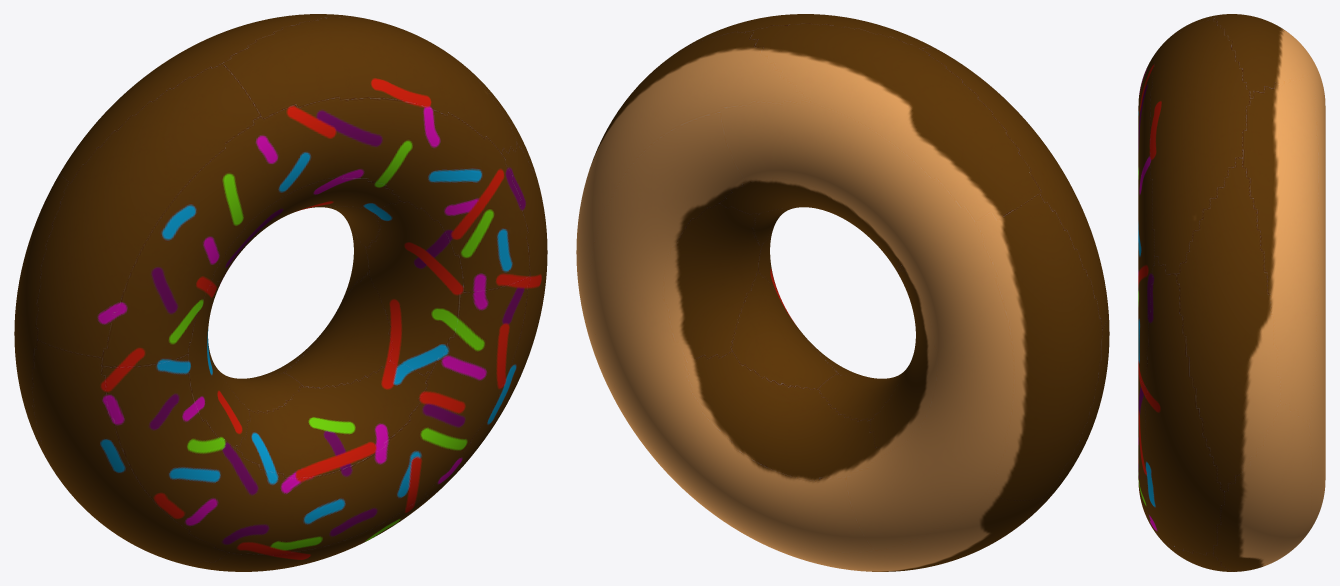
File: doughnut_8764db73.glb
3 views of the same model, side by side, from view 1: azimuth 30°, elevation 25°; view 2: azimuth 150°, elevation 25°; view 3: azimuth 270°, elevation 25° (orthographic). The views are drawn at different scales.
Visible parts, largest first — view 1: Object_2; view 2: Object_2; view 3: Object_2.
Part boxes in pixels (x1,y1,x2,y2): Object_2: [14, 14, 547, 571]; Object_2: [576, 14, 1109, 571]; Object_2: [1138, 14, 1325, 571].
Size of the model in its own units: 1 by 1 by 0.3351.
1 material, 1 textured.
